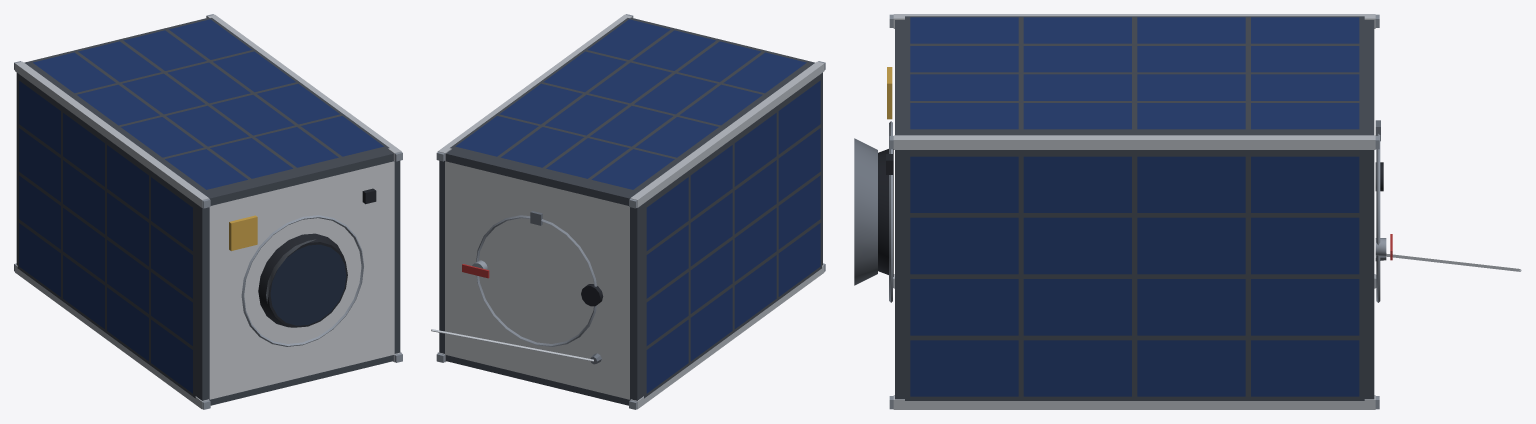
The model's file is cubesat-12u.glb.
3 views of the same model, side by side, from view 1: azimuth 30°, elevation 25°; view 2: azimuth 150°, elevation 25°; view 3: azimuth 270°, elevation 25° (orthographic). The views are drawn at different scales.
Parts seen in each view (by area): view 1: body, solar-panel; view 2: body, solar-panel, foil; view 3: solar-panel, body.
Boxes of the visible parts, x1=… form: body: x1=14, y1=14, x2=402, y2=409; solar-panel: x1=19, y1=19, x2=383, y2=393; body: x1=436, y1=14, x2=825, y2=409; solar-panel: x1=455, y1=19, x2=820, y2=393; foil: x1=431, y1=329, x2=593, y2=361; solar-panel: x1=910, y1=17, x2=1359, y2=396; body: x1=854, y1=14, x2=1392, y2=409.
Size of the model in its own units: 0.2323 by 0.2323 by 0.5069.
